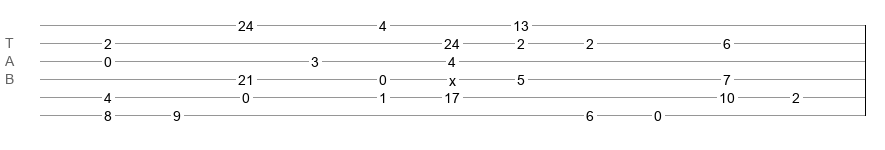0: (104, 54, 112, 64), (242, 90, 250, 100), (379, 72, 387, 82), (654, 108, 662, 118)
1: (379, 90, 387, 100)
10: (719, 90, 735, 100)
13: (513, 18, 529, 28)
17: (444, 90, 460, 100)
2: (104, 36, 112, 46), (517, 36, 525, 46), (586, 36, 594, 46), (792, 90, 800, 100)
21: (238, 72, 254, 82)
24: (238, 18, 254, 28), (444, 36, 460, 46)
3: (311, 54, 319, 64)
4: (104, 90, 112, 100), (379, 18, 387, 28), (448, 54, 456, 64)
5: (517, 72, 525, 82)
6: (586, 108, 594, 118), (723, 36, 731, 46)
7: (723, 72, 731, 82)
8: (104, 108, 112, 118)
9: (173, 108, 181, 118)
x: (449, 73, 456, 81)
